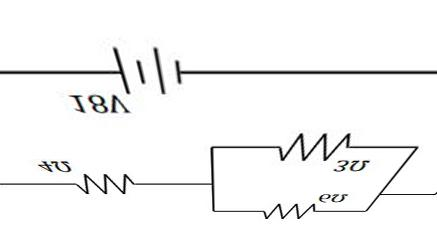resistor: (272, 120, 351, 164), (69, 168, 143, 206), (250, 196, 319, 222)
